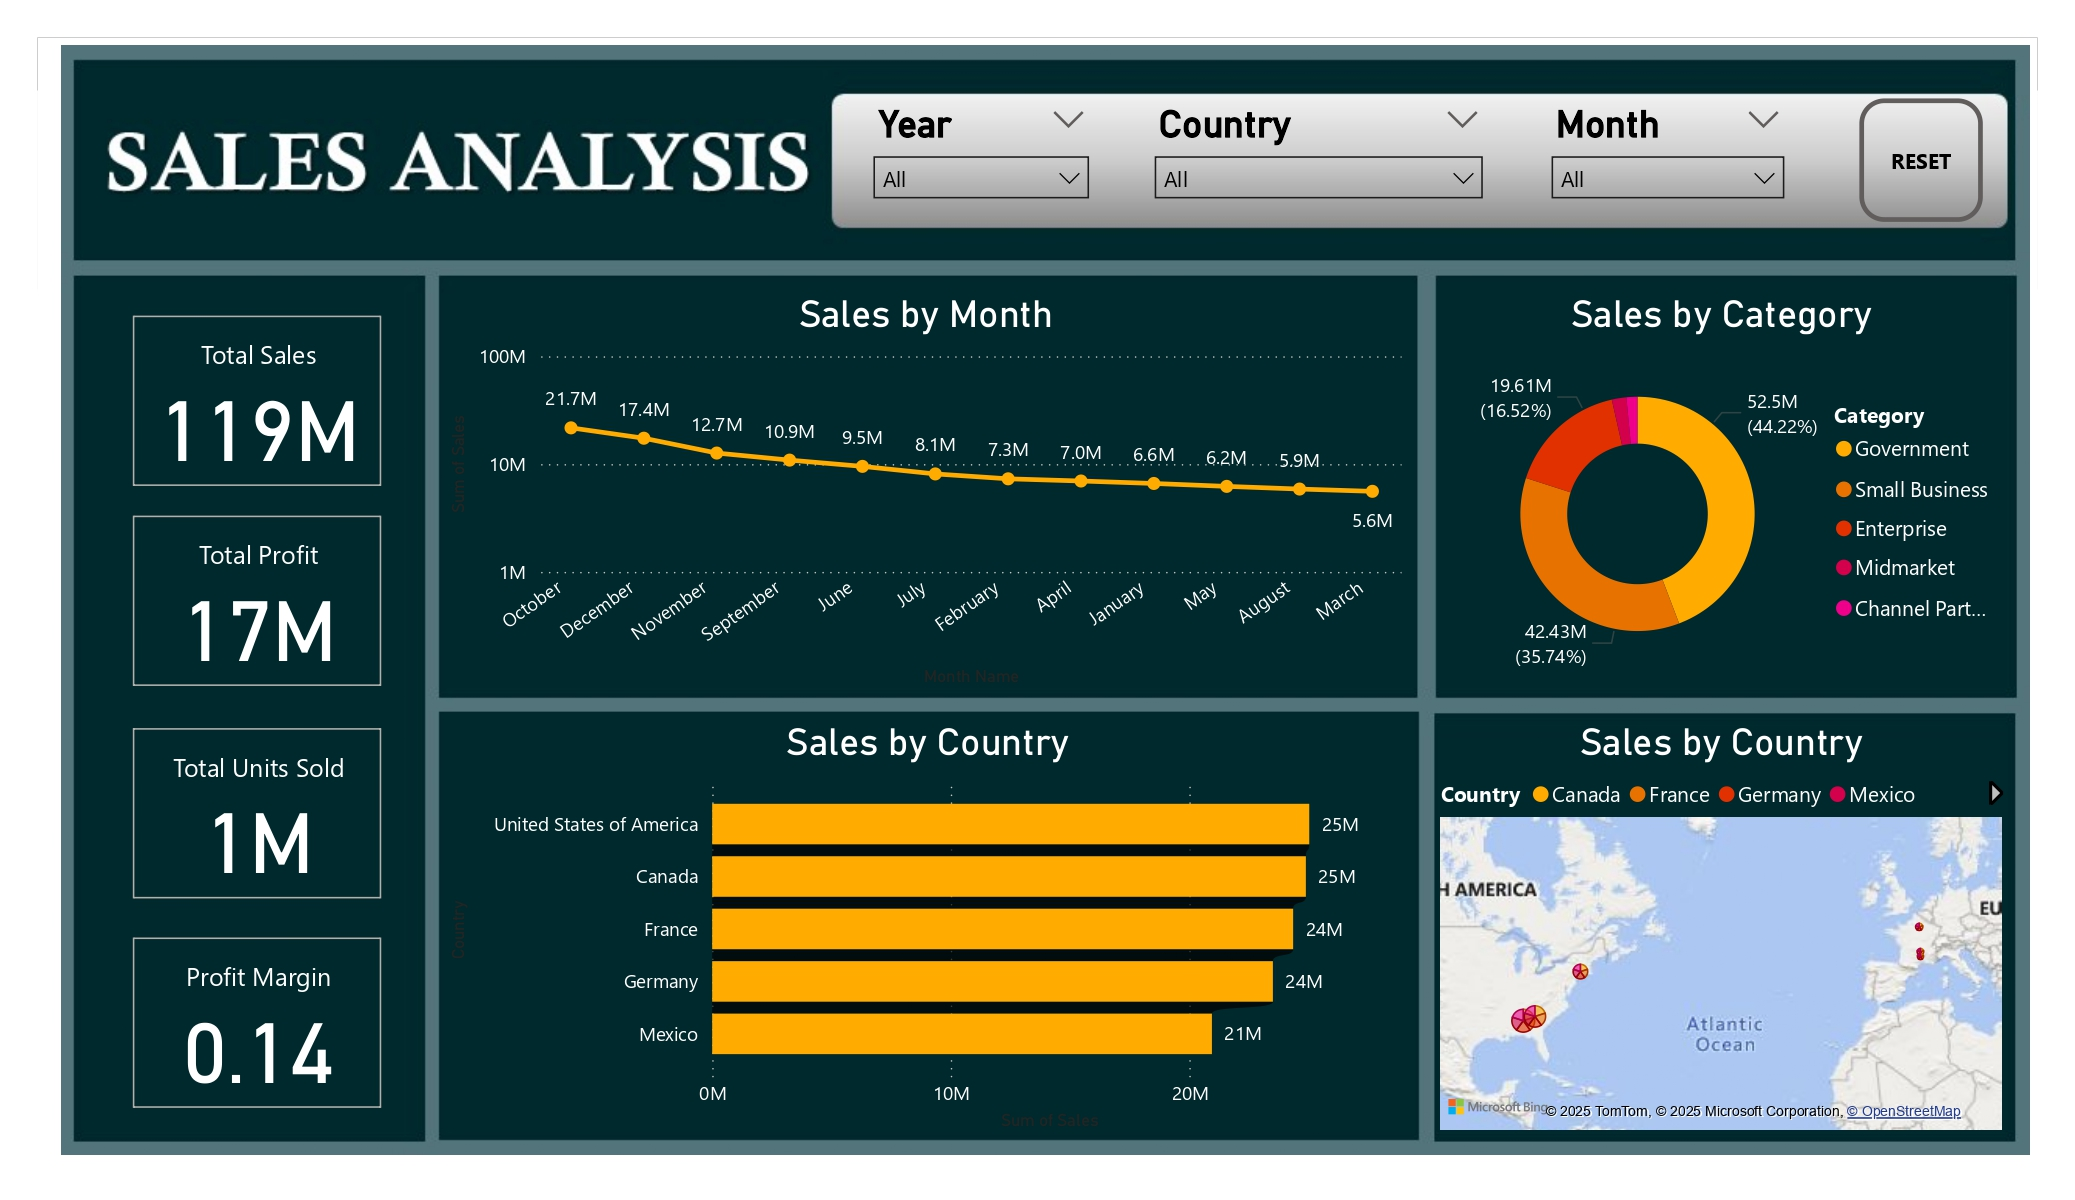

Layout of this report page (visuals, bound fields, positions):
{"tool":"powerbi","page":{"name":"Sales Analysis","canvas":[1280,720],"ordinal":0},"visuals":[{"type":"image","box":[10,0,1270.1,720.3],"z":0},{"type":"donutChart","title":"Sales by Category","fields":{"Y":["Sum(Financials.Sales)"],"Category":["Financials.Segment"]},"box":[893.2,163,369.5,257.5],"z":2000},{"type":"map","title":"Sales by Country","fields":{"Size":["Sum(Financials.Sale Price)"],"Category":["Financials.Sale Price"],"Series":["Financials.Country"]},"box":[893.2,436.6,369.5,267.5],"z":3000},{"type":"lineChart","title":"Sales by Month","fields":{"Category":["Financials.Month Name"],"Y":["Sum(Financials.Sales)"]},"box":[258.7,163,619.5,257.5],"z":4000},{"type":"barChart","title":"Sales by Country","fields":{"Y":["Sum(Financials.Sales)"],"Category":["Financials.Country"]},"box":[258.7,436.6,622,267.5],"z":5000},{"type":"slicer","fields":{"Values":["Financials.Country"]},"box":[705.3,37.3,230.1,87.1],"z":6000},{"type":"slicer","fields":{"Values":["Financials.Year"]},"box":[525,37.3,158,87.1],"z":7000},{"type":"slicer","fields":{"Values":["Financials.Month Name"]},"box":[959.1,37.3,169.2,87.1],"z":8000},{"type":"actionButton","box":[1165.6,38.6,79.6,79.6],"z":9000},{"type":"cardVisual","fields":{"Data":["Financials.Total Sales"]},"box":[56,172.9,169.2,119.4],"z":9001},{"type":"cardVisual","fields":{"Data":["Financials.Total Profit"]},"box":[56,301,169.2,119.4],"z":9002},{"type":"cardVisual","fields":{"Data":["Financials.Total Units Sold"]},"box":[56,436.6,169.2,119.4],"z":9003},{"type":"cardVisual","fields":{"Data":["Financials.Profit Margin"]},"box":[56,571,169.2,119.4],"z":9004}]}

Visuals, with their boxes in screenshot pixels (x1, y1, x2, y2):
image: detection(64, 38, 2023, 1149)
"Sales by Category" donutChart: detection(1426, 289, 1996, 686)
"Sales by Country" map: detection(1426, 711, 1996, 1124)
"Sales by Month" lineChart: detection(448, 289, 1403, 686)
"Sales by Country" barChart: detection(448, 711, 1407, 1124)
slicer - Financials.Country: detection(1136, 95, 1491, 230)
slicer - Financials.Year: detection(858, 95, 1102, 230)
slicer - Financials.Month Name: detection(1528, 95, 1788, 230)
actionButton: detection(1846, 97, 1969, 220)
cardVisual - Financials.Total Sales: detection(135, 304, 396, 489)
cardVisual - Financials.Total Profit: detection(135, 502, 396, 686)
cardVisual - Financials.Total Units Sold: detection(135, 711, 396, 895)
cardVisual - Financials.Profit Margin: detection(135, 918, 396, 1102)
